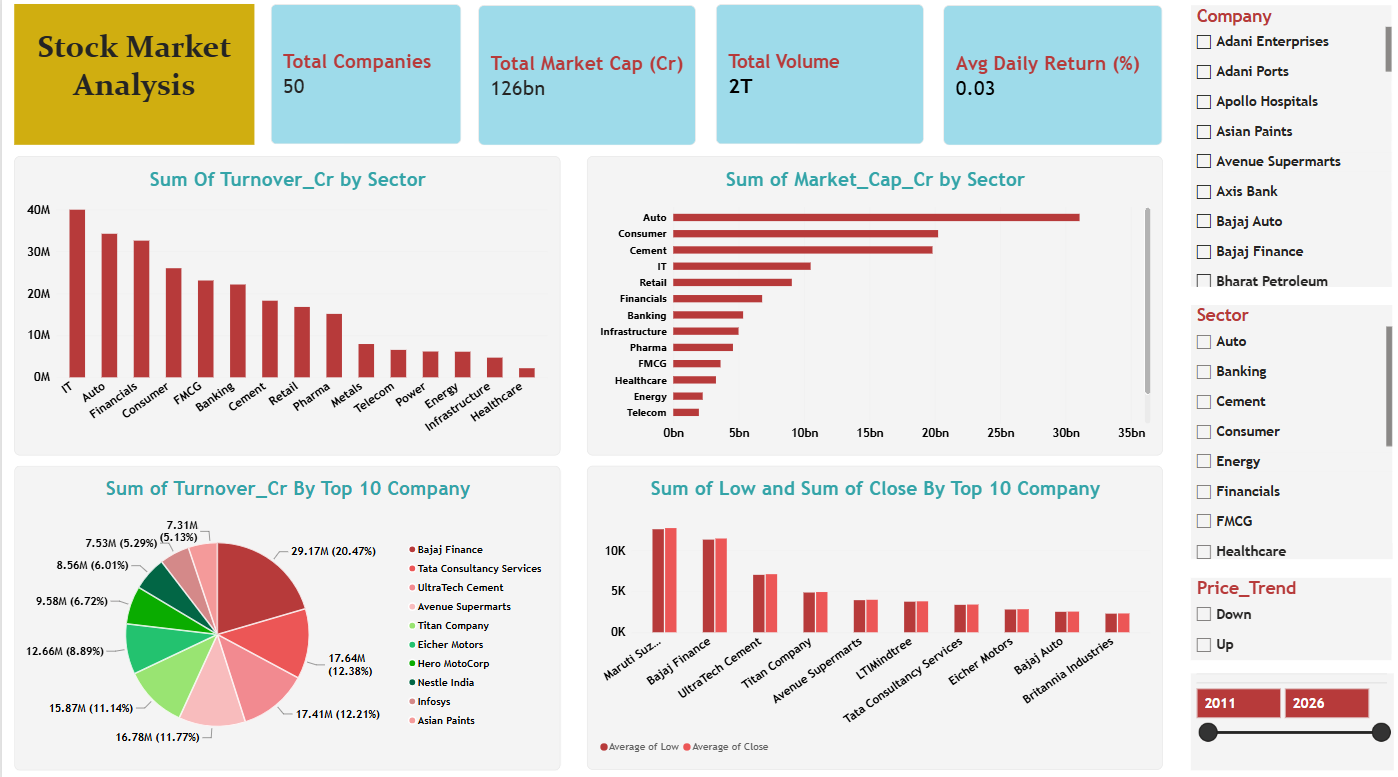

The dashboard page shown, as its layout file describes it:
{"tool":"powerbi","page":{"name":"Page 1","canvas":[1920,1080],"ordinal":0},"visuals":[{"type":"textbox","box":[346.2,425.5,253.3,114.8],"z":0},{"type":"textbox","box":[16.9,13.5,329.3,192.5],"z":2000},{"type":"slicer","fields":{"Values":["Dim_Stock.Company"]},"box":[1627.4,15.2,275,386],"z":4000},{"type":"slicer","fields":{"Values":["Dim_Stock.Sector"]},"box":[1627.4,425.5,275.2,347.8],"z":5000},{"type":"slicer","fields":{"Values":["Dim_Trend.Price_Trend"]},"box":[1627.4,799.3,275,112.4],"z":6000},{"type":"columnChart","title":"Sum Of Turnover_Cr by Sector","fields":{"Category":["Dim_Stock.Sector"],"Y":["Sum(Fact_Stock.Turnover_Cr)"]},"box":[16.7,221.8,747.6,410.3],"z":7000},{"type":"barChart","fields":{"Category":["Dim_Stock.Sector"],"Y":["Sum(Fact_Stock.Market_Cap_Cr)"]},"box":[800.8,221.8,788.6,410.3],"z":7003},{"type":"pieChart","title":"Sum of Turnover_Cr By Top 10 Company","fields":{"Category":["Dim_Stock.Company"],"Y":["Sum(Fact_Stock.Turnover_Cr)"]},"box":[16.9,645,748,417.1],"z":7004},{"type":"clusteredColumnChart","title":"Sum of Low and Sum of Close By Top 10 Company","fields":{"Category":["Dim_Stock.Company"],"Y":["Avg(Fact_Stock.Low)","Avg(Fact_Stock.Close)"]},"box":[800.8,645.8,788.6,416.3],"z":7005},{"type":"cardVisual","fields":{"Data":["Fact_Stock.Total Companies"]},"box":[368.1,13.5,261.7,192.5],"z":7006},{"type":"cardVisual","fields":{"Data":["Fact_Stock.Total Market Cap (Cr)"]},"box":[651.9,15.2,298.9,192.5],"z":7007},{"type":"cardVisual","fields":{"Data":["Fact_Stock.Total Volume"]},"box":[977.7,13.5,285.4,192.5],"z":7009},{"type":"cardVisual","fields":{"Data":["Fact_Stock.Avg Daily Return (%)"]},"box":[1288.4,15.2,300.6,192.5],"z":7010},{"type":"slicer","fields":{"Values":["Dim_Date.Year"]},"box":[1627.4,929.9,276.5,132.2],"z":7011}]}

Visuals, with their boxes in screenshot pixels (x1, y1, x2, y2), scaled from the page's 1920x1080 canvas onto the 1398x777 screenshot:
textbox: [252, 306, 437, 389]
textbox: [12, 10, 252, 148]
slicer - Dim_Stock.Company: [1185, 11, 1385, 289]
slicer - Dim_Stock.Sector: [1185, 306, 1385, 556]
slicer - Dim_Trend.Price_Trend: [1185, 575, 1385, 656]
"Sum Of Turnover_Cr by Sector" columnChart: [12, 160, 557, 455]
barChart - Dim_Stock.Sector x Sum(Fact_Stock.Market_Cap_Cr): [583, 160, 1157, 455]
"Sum of Turnover_Cr By Top 10 Company" pieChart: [12, 464, 557, 764]
"Sum of Low and Sum of Close By Top 10 Company" clusteredColumnChart: [583, 465, 1157, 764]
cardVisual - Fact_Stock.Total Companies: [268, 10, 459, 148]
cardVisual - Fact_Stock.Total Market Cap (Cr): [475, 11, 692, 149]
cardVisual - Fact_Stock.Total Volume: [712, 10, 920, 148]
cardVisual - Fact_Stock.Avg Daily Return (%): [938, 11, 1157, 149]
slicer - Dim_Date.Year: [1185, 669, 1386, 764]
